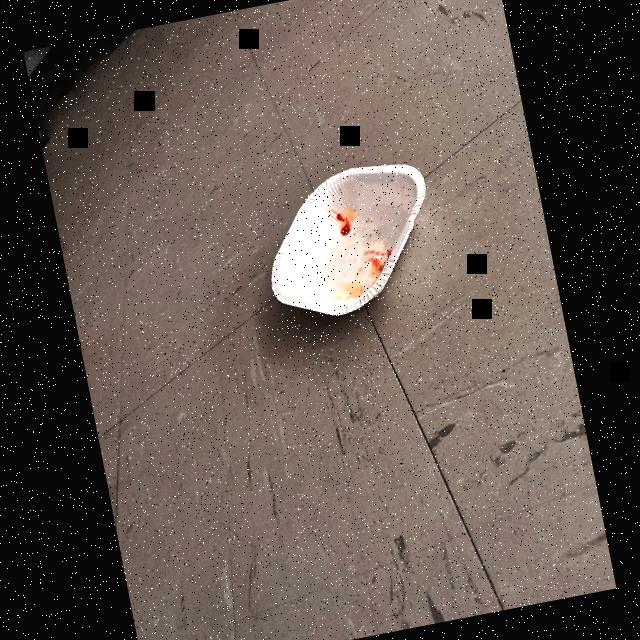cardboard_bowl: (237, 145, 460, 347)
